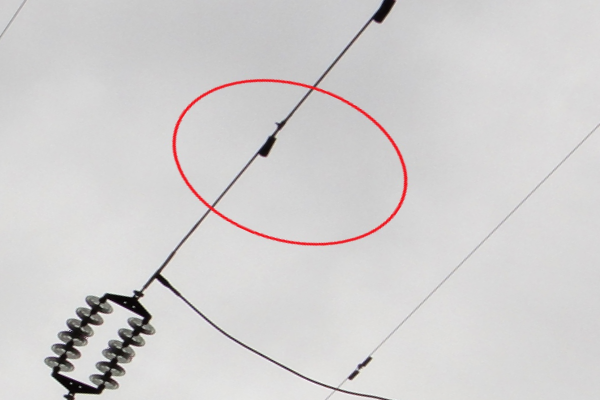damper: (346, 354, 374, 381)
damper_defect: (257, 115, 289, 159)
